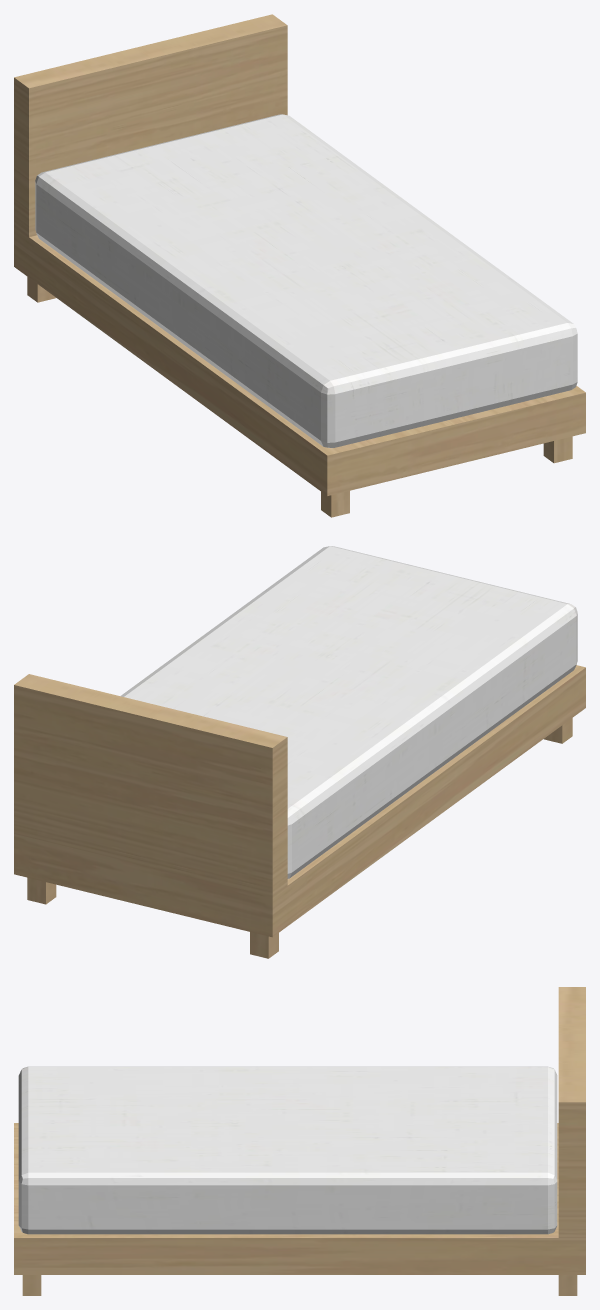
Rendered from bed.glb.
3 renders of one model, top to bottom at view 1: azimuth 30°, elevation 25°; view 2: azimuth 150°, elevation 25°; view 3: azimuth 270°, elevation 25°, orthographic. The views are drawn at different scales.
Parts seen in each view (by area): view 1: Cube; view 2: Cube; view 3: Cube.
Part boxes in pixels (left/top/right/bottom): Cube: left=14, top=14, right=585, bottom=517; Cube: left=14, top=546, right=585, bottom=958; Cube: left=14, top=987, right=585, bottom=1295.
Bounding box in the file's own units: 1 × 0.8 × 2.1.
Materials: 2 (2 with a texture image).
